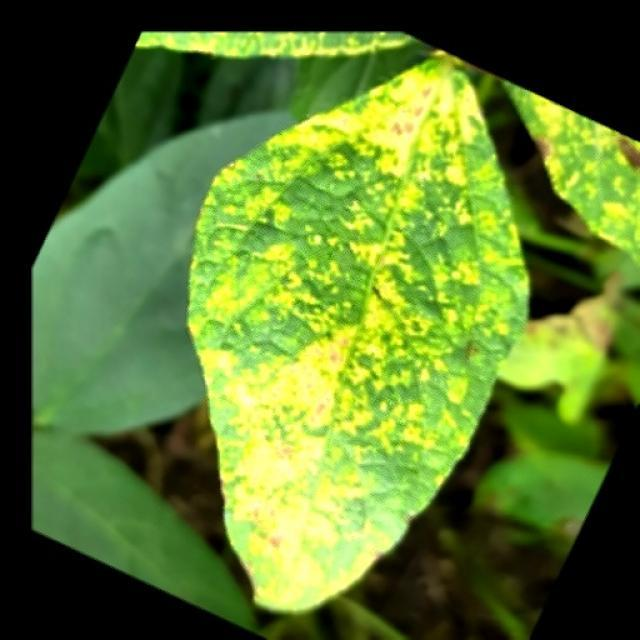leaves: (143, 40, 587, 625)
